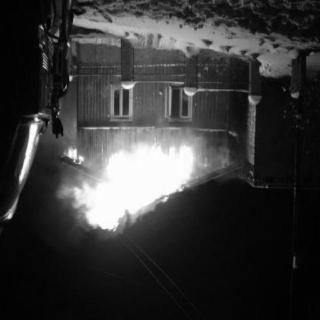Fire: (57, 133, 205, 245)
